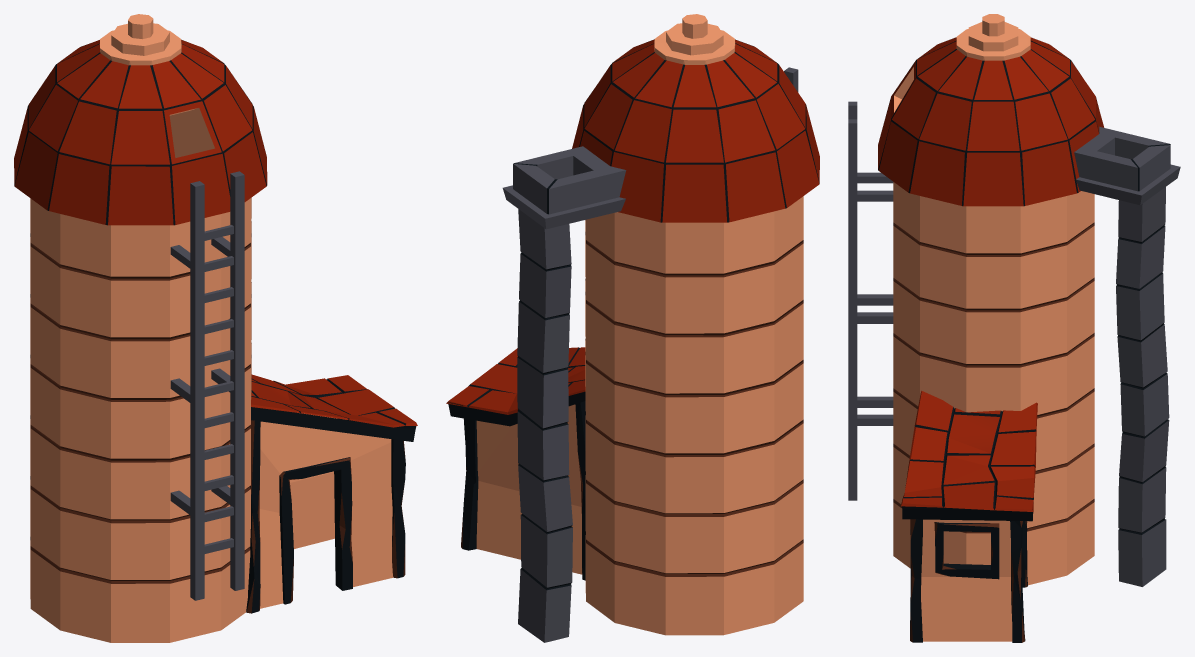
The model's file is Silo.fbx.
The picture shows the model from 3 angles, left to right: view 1: azimuth 30°, elevation 25°; view 2: azimuth 150°, elevation 25°; view 3: azimuth 270°, elevation 25°; orthographic projection. The views are drawn at different scales.
Visible parts, largest first — view 1: Silo; view 2: Silo; view 3: Silo.
Part boxes in pixels (x1,y1,x2,y2): Silo: (14, 14, 417, 642); Silo: (446, 14, 819, 642); Silo: (848, 14, 1180, 642).
Bounding box in the file's own units: 187 × 303 × 173.
